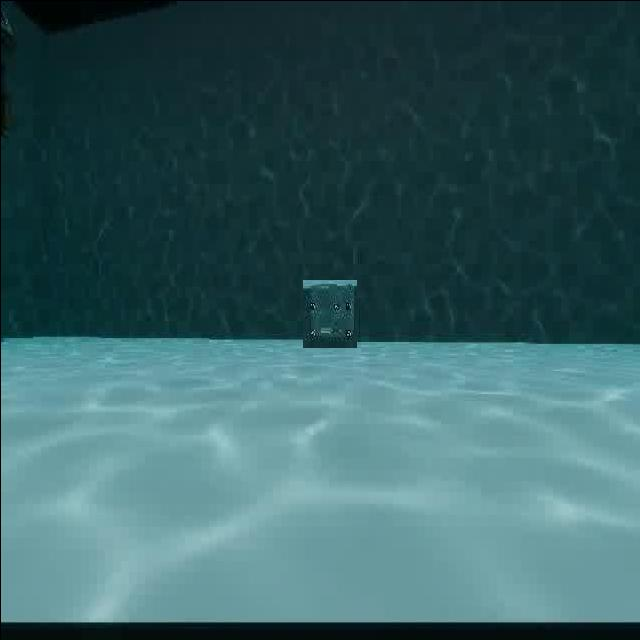Docking Station: (302, 279, 356, 347)
